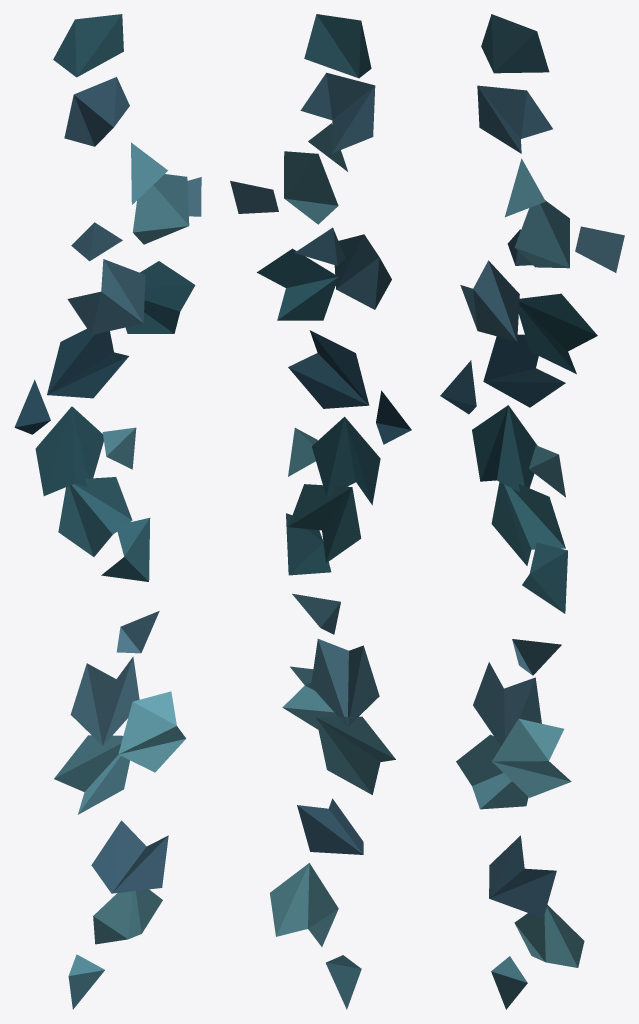
File: SM_Env_Ivy_04.fbx
3 views of the same model, side by side, from view 1: azimuth 30°, elevation 25°; view 2: azimuth 150°, elevation 25°; view 3: azimuth 330°, elevation 25° (orthographic).
Parts seen in each view (by area): view 1: SM_Env_Ivy_04; view 2: SM_Env_Ivy_04; view 3: SM_Env_Ivy_04.
Boxes of the visible parts, x1,y1,x2,y2 form: SM_Env_Ivy_04: [14, 14, 201, 1009]; SM_Env_Ivy_04: [230, 14, 411, 1009]; SM_Env_Ivy_04: [440, 14, 624, 1009].
Size of the model in its own units: 0.8174 by 4.2 by 0.2458.
1 material, 1 textured.
